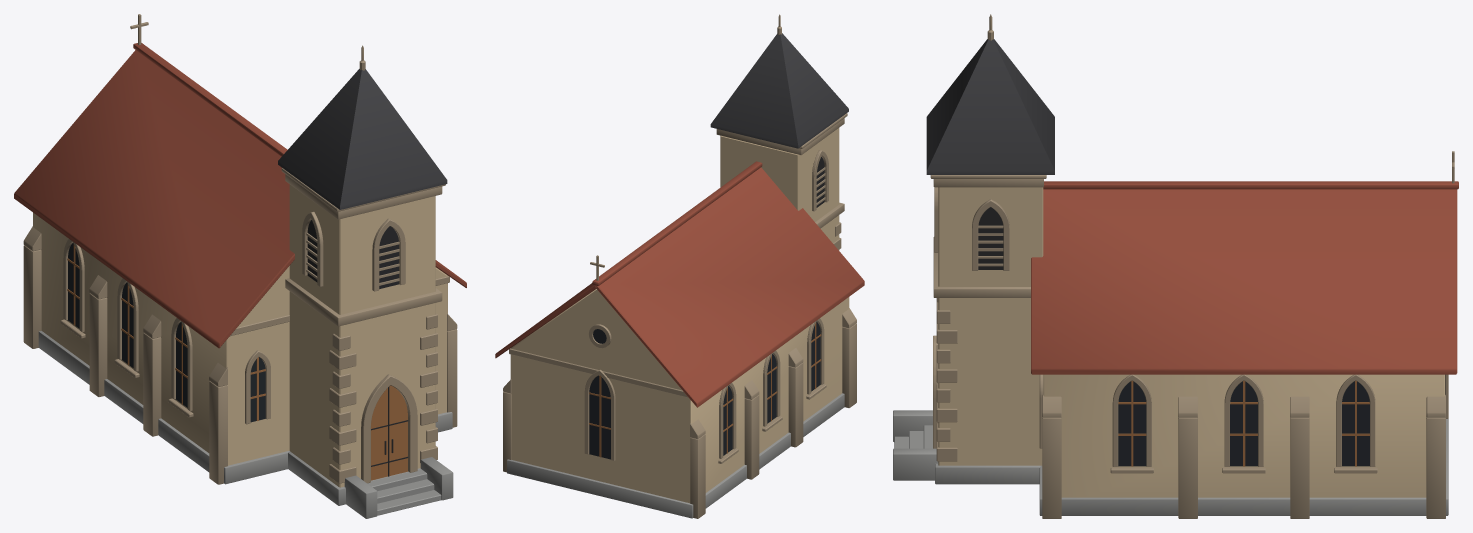
File: Church.fbx
3 views of the same model, side by side, from view 1: azimuth 30°, elevation 25°; view 2: azimuth 150°, elevation 25°; view 3: azimuth 270°, elevation 25° (orthographic). The views are drawn at different scales.
Parts seen in each view (by area): view 1: Church_Mesh; view 2: Church_Mesh; view 3: Church_Mesh.
Part boxes in pixels (x1=…): Church_Mesh: x1=14, y1=14, x2=466, y2=518; Church_Mesh: x1=495, y1=14, x2=864, y2=518; Church_Mesh: x1=893, y1=14, x2=1458, y2=518.
Size of the model in its own units: 8.5 by 14.05 by 16.2.
